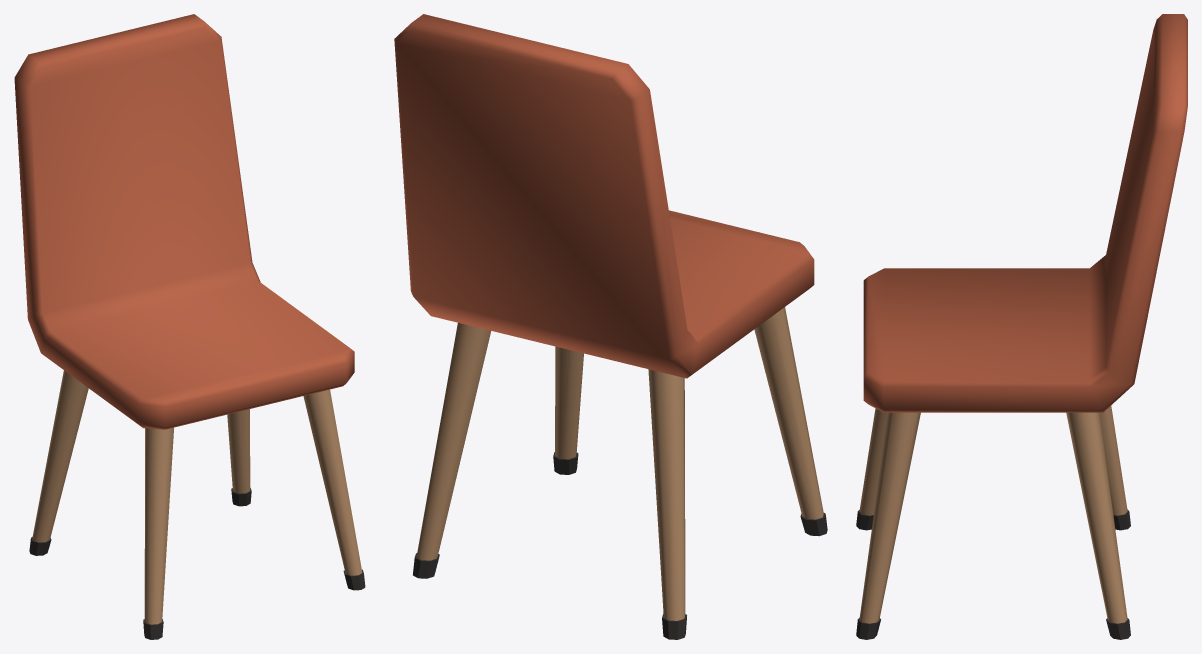
File: chair2.FBX
3 renders of one model, left to right at view 1: azimuth 30°, elevation 25°; view 2: azimuth 150°, elevation 25°; view 3: azimuth 270°, elevation 25°, orthographic. The views are drawn at different scales.
Visible parts, largest first — view 1: chair2; view 2: chair2; view 3: chair2.
Boxes of the visible parts, x1=… form: chair2: x1=14, y1=14, x2=365, y2=639; chair2: x1=394, y1=14, x2=827, y2=639; chair2: x1=856, y1=14, x2=1187, y2=639.
Bounding box in the file's own units: 47.87 × 98.43 × 56.69.
1 material, 1 textured.
